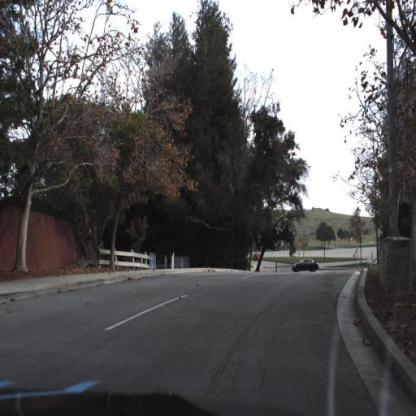car: (291, 256, 320, 277)
